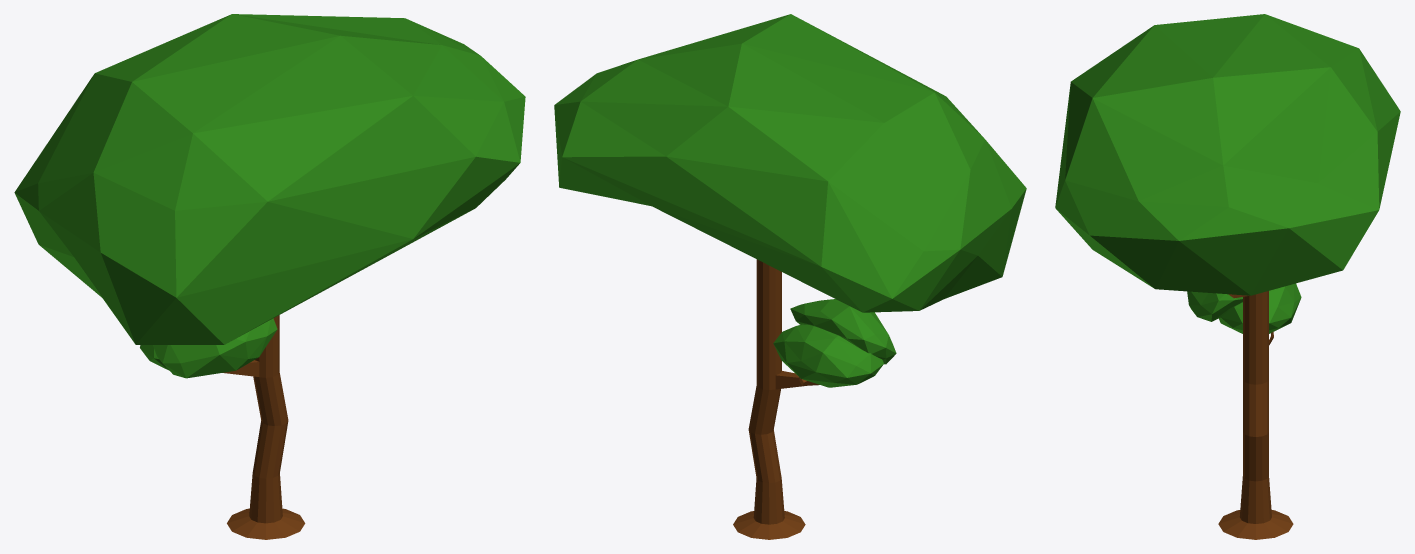
The model's file is tree5.fbx.
The picture shows the model from 3 angles, left to right: view 1: azimuth 30°, elevation 25°; view 2: azimuth 150°, elevation 25°; view 3: azimuth 270°, elevation 25°; orthographic projection. The views are drawn at different scales.
Visible parts, largest first — view 1: Circle.004; view 2: Circle.004; view 3: Circle.004.
Part boxes in pixels (left/top/right/bottom): Circle.004: left=14, top=14, right=525, bottom=539; Circle.004: left=554, top=14, right=1026, bottom=539; Circle.004: left=1055, top=14, right=1400, bottom=539.
Bounding box in the file's own units: 3.52 × 3.79 × 2.52.
